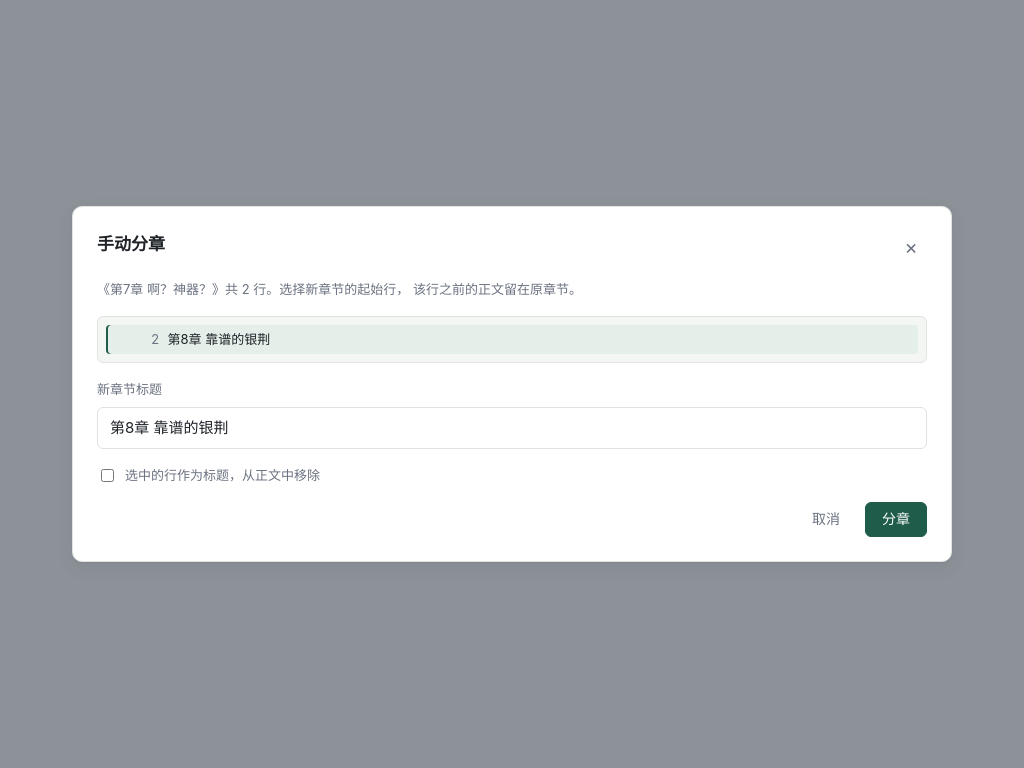
SplitChapterDialog › disables confirm when dropping the final line would leave no body
What coordinates should you click on to do the following:
click the checkbox with test id "split-drop-line"
I would click on:
 (108, 476)
Its box is [101,469,114,482].
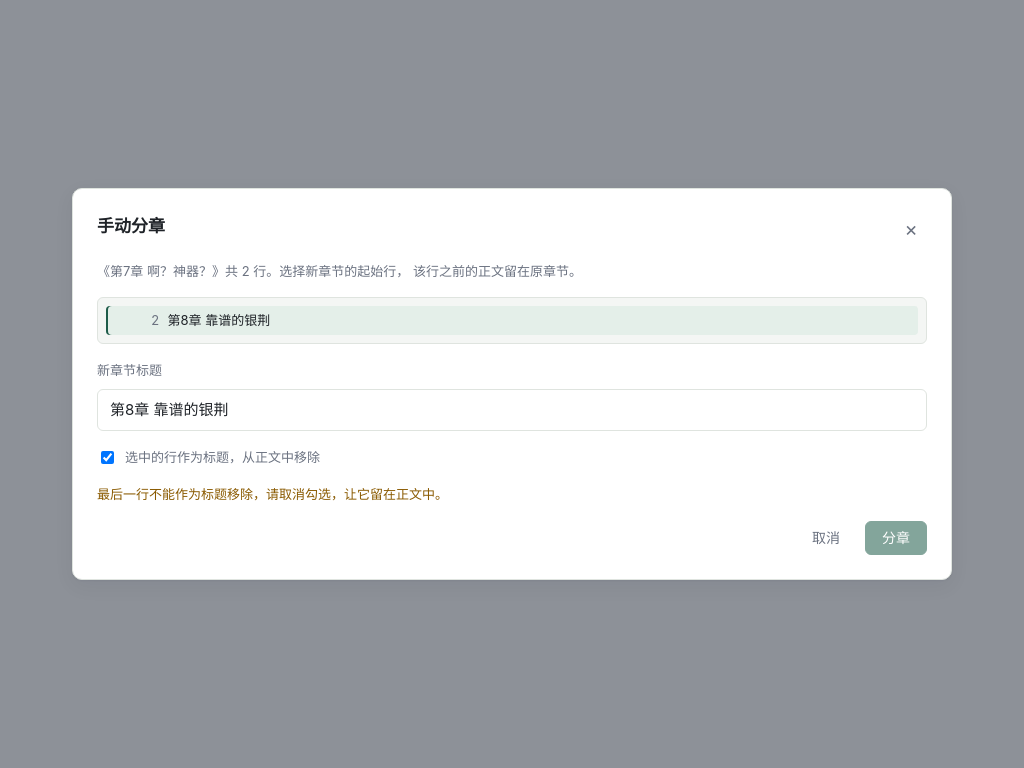
Result: the button with test id "split-confirm" is disabled at [865,521,927,555]
Result: the text "最后一行" is shown at [97,486,448,502]
